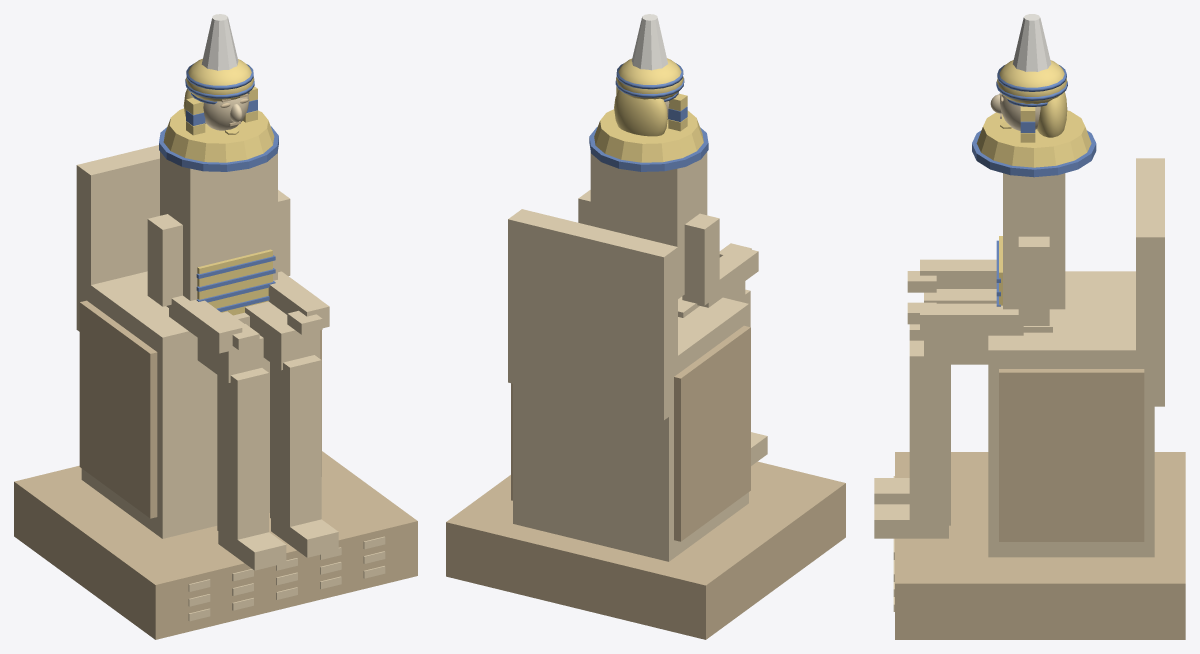
Rendered from Pharaoh_Statue.gltf.
3 views of the same model, side by side, from view 1: azimuth 30°, elevation 25°; view 2: azimuth 150°, elevation 25°; view 3: azimuth 270°, elevation 25° (orthographic). The views are drawn at different scales.
Parts seen in each view (by area): view 1: Pharaoh_Statue; view 2: Pharaoh_Statue; view 3: Pharaoh_Statue.
Part boxes in pixels (x1=…): Pharaoh_Statue: x1=14, y1=14, x2=417, y2=639; Pharaoh_Statue: x1=446, y1=14, x2=845, y2=639; Pharaoh_Statue: x1=874, y1=14, x2=1185, y2=639.
Bounding box in the file's own units: 1.5 × 2.96 × 1.5.
